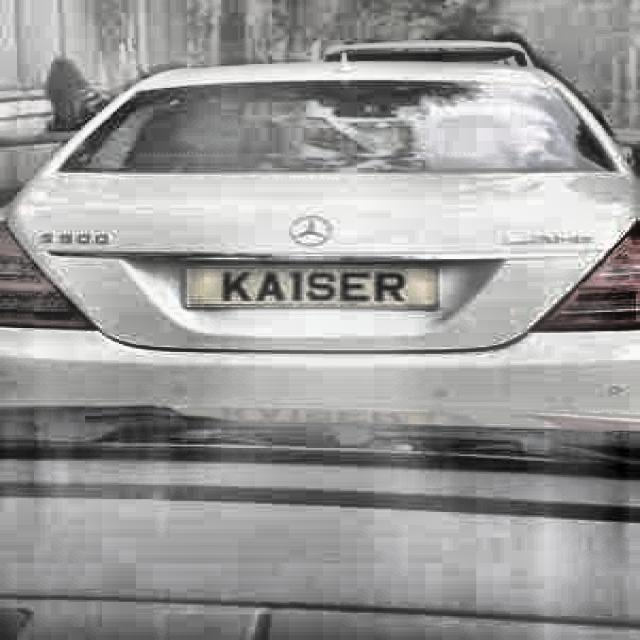license_plate: (192, 262, 430, 312)
